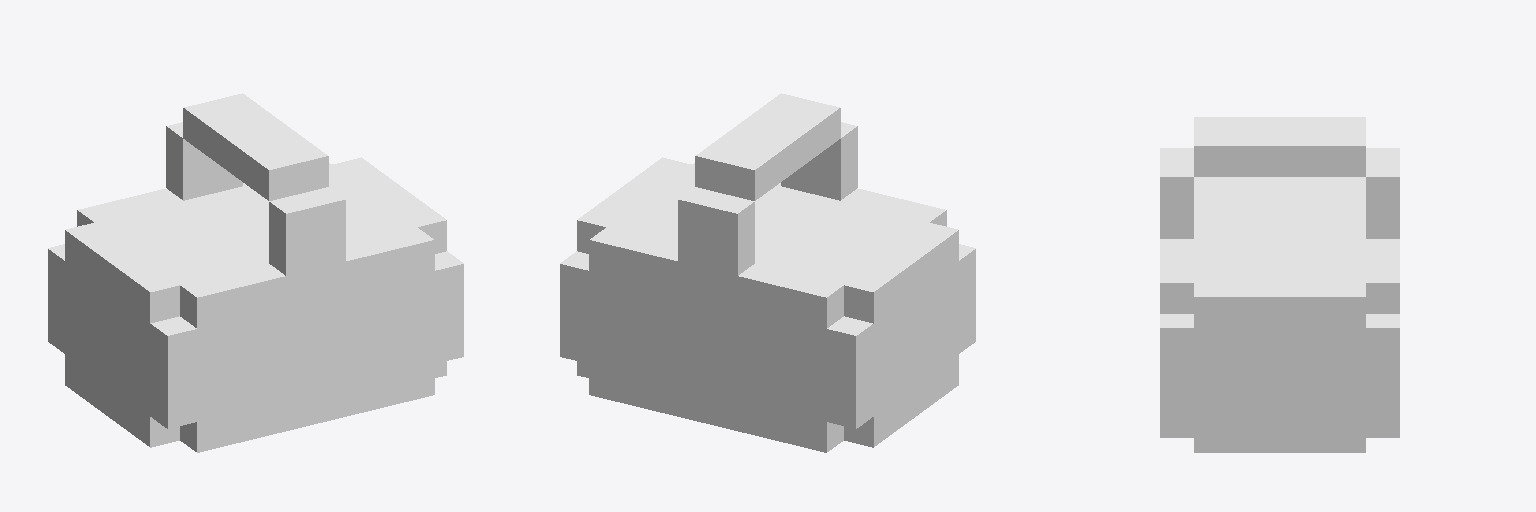
File: Picnic_Set-0.obj
3 renders of one model, left to right at view 1: azimuth 30°, elevation 25°; view 2: azimuth 150°, elevation 25°; view 3: azimuth 270°, elevation 25°, orthographic.
Visible parts, largest first — view 1: object 1; view 2: object 1; view 3: object 1.
Part boxes in pixels (bbox=[...]): object 1: bbox=[48, 93, 463, 452]; object 1: bbox=[560, 93, 975, 452]; object 1: bbox=[1160, 117, 1399, 452].
Bounding box in the file's own units: 1 × 0.8 × 0.7.